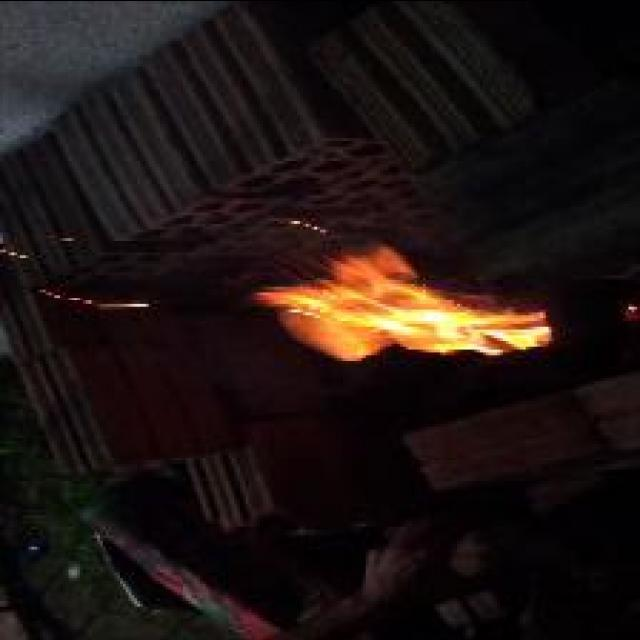Fire: (253, 243, 553, 360)
